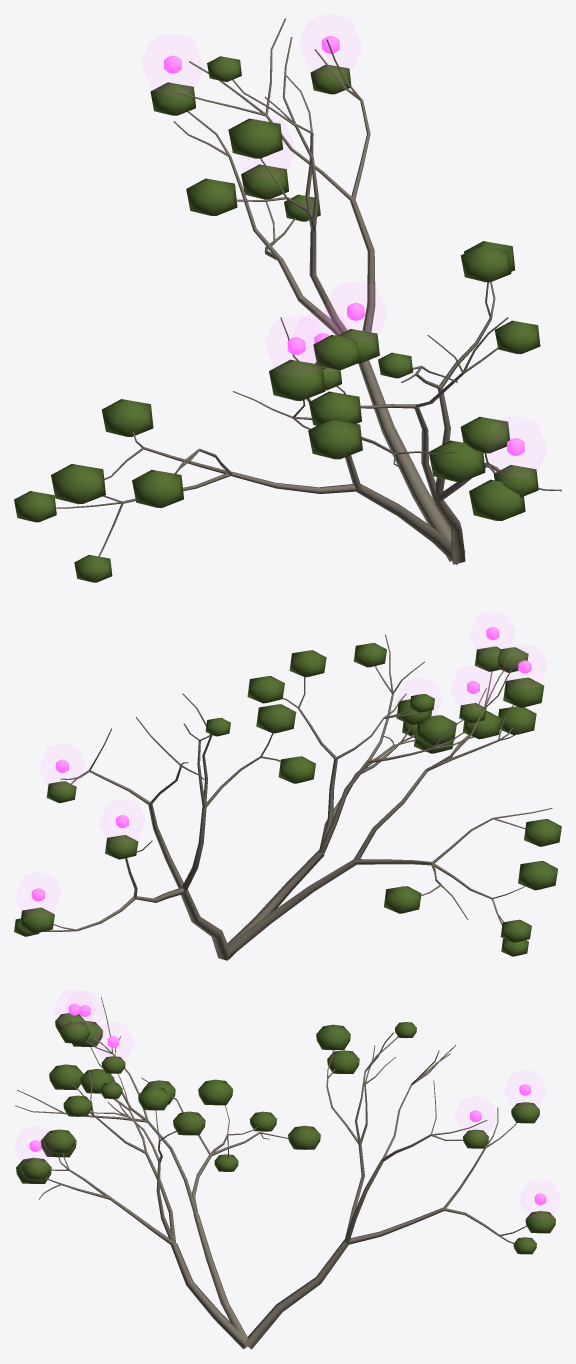
The model's file is desert_brush_1.glb.
3 renders of one model, top to bottom at view 1: azimuth 30°, elevation 25°; view 2: azimuth 150°, elevation 25°; view 3: azimuth 270°, elevation 25°, orthographic. The views are drawn at different scales.
Visible parts, largest first — view 1: DesertBrush_Twigs, DesertBrush_Leaves_16, DesertBrush_Leaves_5, DesertBrush_Leaves_1, DesertBrush_Leaves_2, DesertBrush_Leaves_10, DesertBrush_Leaves_14, DesertBrush_Leaves_15, DesertBrush_Leaves_25, DesertBrush_Leaves_21, DesertBrush_Leaves_6, DesertBrush_Leaves_22 (+12 smaller); view 2: DesertBrush_Twigs, DesertBrush_Leaves_16, DesertBrush_Leaves_1, DesertBrush_Leaves_10, DesertBrush_Leaves_5, DesertBrush_Leaves_2, DesertBrush_Leaves_15, DesertBrush_Leaves_25, DesertBrush_Leaves_7, DesertBrush_Leaves_21, DesertBrush_Leaves_6, DesertBrush_Leaves_8 (+9 smaller); view 3: DesertBrush_Twigs, DesertBrush_Leaves_1, DesertBrush_Leaves_10, DesertBrush_Leaves_2, DesertBrush_Leaves_25, DesertBrush_Leaves_7, DesertBrush_Leaves_6, DesertBrush_Leaves_21, DesertBrush_Leaves_18, DesertBrush_Leaves_22, DesertBrush_Leaves_8, DesertBrush_Leaves_4 (+4 smaller).
Boxes of the visible parts, x1,y1,x2,y2 form: DesertBrush_Twigs: (55,18,561,564); DesertBrush_Leaves_16: (269,359,325,400); DesertBrush_Leaves_5: (429,440,485,481); DesertBrush_Leaves_1: (51,464,105,504); DesertBrush_Leaves_2: (308,419,362,459); DesertBrush_Leaves_10: (228,118,282,158); DesertBrush_Leaves_14: (469,479,525,520); DesertBrush_Leaves_15: (132,470,183,507); DesertBrush_Leaves_25: (102,399,153,436); DesertBrush_Leaves_21: (186,178,237,215); DesertBrush_Leaves_6: (460,245,511,282); DesertBrush_Leaves_22: (309,391,361,425); DesertBrush_Twigs: (44,634,552,960); DesertBrush_Leaves_16: (503,677,544,707); DesertBrush_Leaves_1: (518,861,557,890); DesertBrush_Leaves_10: (256,704,296,733); DesertBrush_Leaves_5: (415,715,456,745); DesertBrush_Leaves_2: (498,706,536,734); DesertBrush_Leaves_15: (524,819,561,846); DesertBrush_Leaves_25: (384,886,421,913); DesertBrush_Leaves_7: (247,676,284,703); DesertBrush_Leaves_21: (278,756,315,783); DesertBrush_Leaves_6: (289,650,326,677); DesertBrush_Leaves_8: (20,907,54,933); DesertBrush_Twigs: (15,997,526,1349); DesertBrush_Leaves_1: (198,1079,233,1105); DesertBrush_Leaves_10: (316,1024,350,1050); DesertBrush_Leaves_2: (49,1064,83,1089); DesertBrush_Leaves_25: (288,1125,320,1149); DesertBrush_Leaves_7: (173,1111,205,1135); DesertBrush_Leaves_6: (138,1087,170,1110); DesertBrush_Leaves_21: (327,1050,359,1073); DesertBrush_Leaves_18: (43,1129,75,1152); DesertBrush_Leaves_22: (80,1069,114,1093); DesertBrush_Leaves_8: (525,1211,555,1233); DesertBrush_Leaves_4: (60,1021,89,1043).
Size of the model in its own units: 0.905 by 0.7853 by 1.3.
